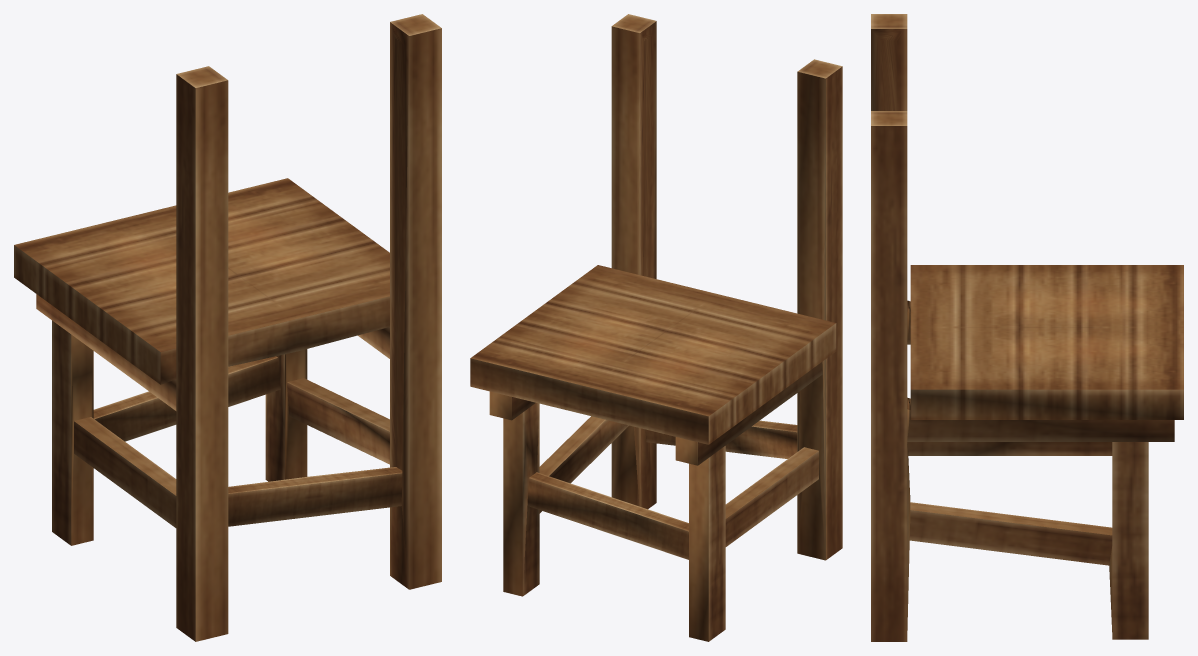
The model's file is c_SWGchair04b01.glb.
3 views of the same model, side by side, from view 1: azimuth 30°, elevation 25°; view 2: azimuth 150°, elevation 25°; view 3: azimuth 270°, elevation 25° (orthographic). The views are drawn at different scales.
Parts seen in each view (by area): view 1: c_SWGchair04b01; view 2: c_SWGchair04b01; view 3: c_SWGchair04b01.
Boxes of the visible parts, <box> form: c_SWGchair04b01: <box>14,14,441,641</box>; c_SWGchair04b01: <box>470,14,842,641</box>; c_SWGchair04b01: <box>871,14,1183,641</box>.
Bounding box in the file's own units: 0.5103 × 0.9859 × 0.5415.
1 material, 1 textured.
